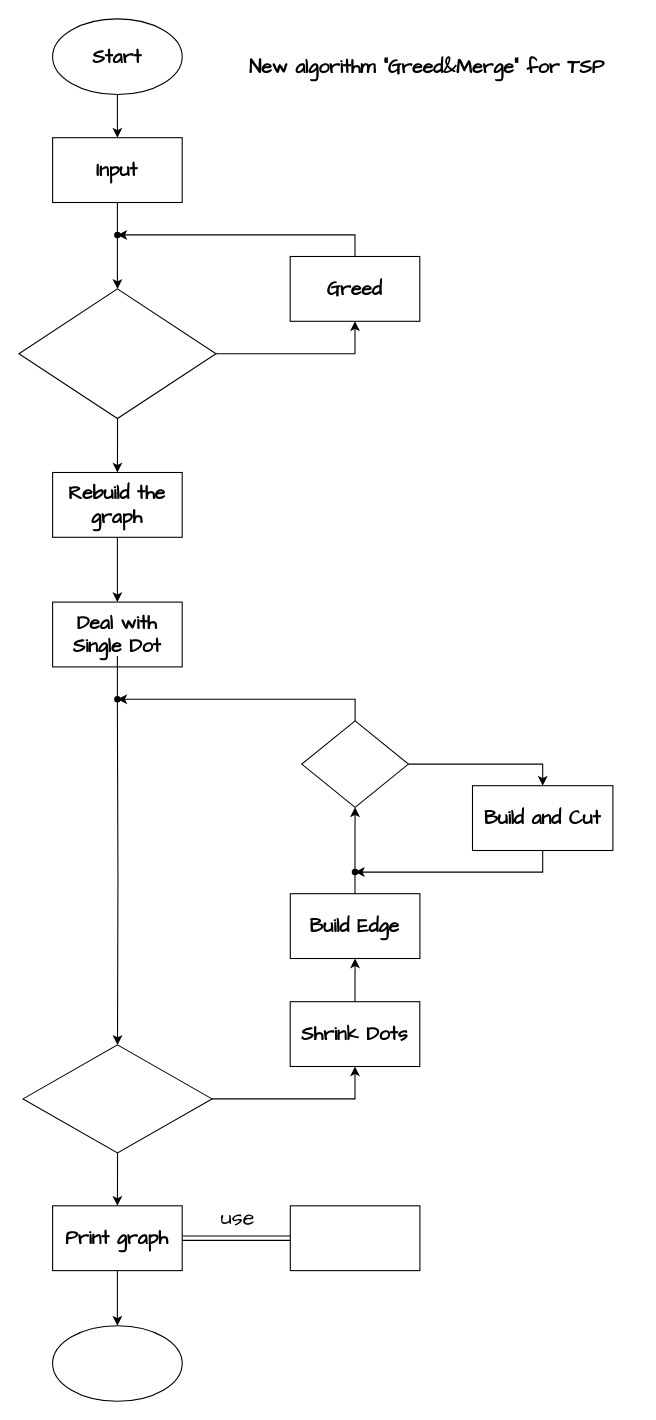
The diagram is 656 pixels wide and 1420 high, and some of its shapes have lost their labels. The centre of each missing label's shape, as x and y in pixels:
"End" goes at point (117, 1363).
"Kruskal" goes at point (354, 763).
"MATLAB" goes at point (354, 1238).
"Not connection" goes at point (117, 1098).
"Not sign all the Dots" goes at point (117, 353).
